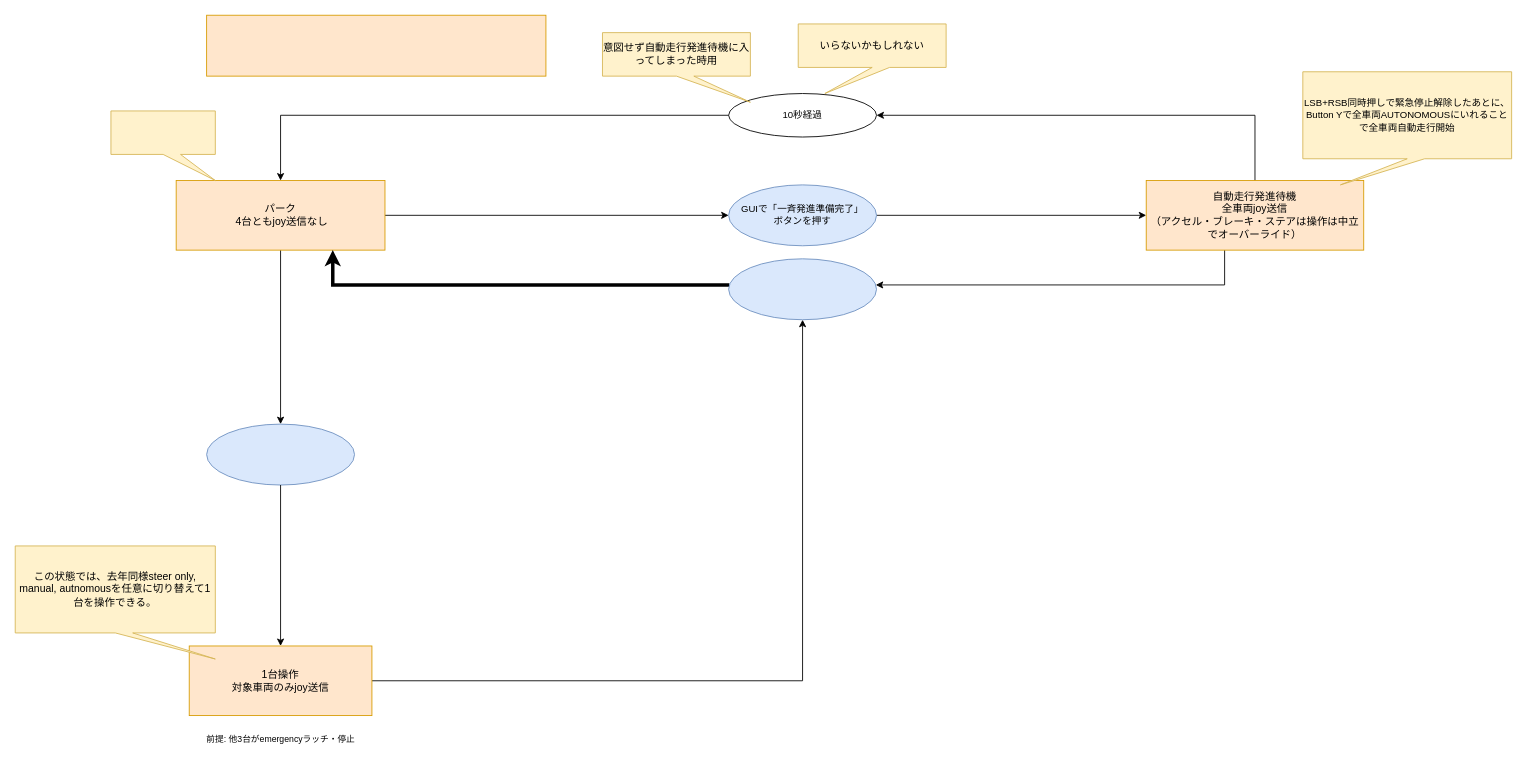
Some shapes in this 1527 by 770 pixel diagram are drawn without their labels. The centre of each missing label's shape, as x and y in pixels:
GUI で車両選択: the point at 280,454
オレンジ四角は、遠隔PCからのjoy疎通のモードを表す: the point at 376,45
基本この状態: the point at 162,145
緊急停止ボタン or 停止しているべき車両の停止が 確認できない: the point at 802,289
